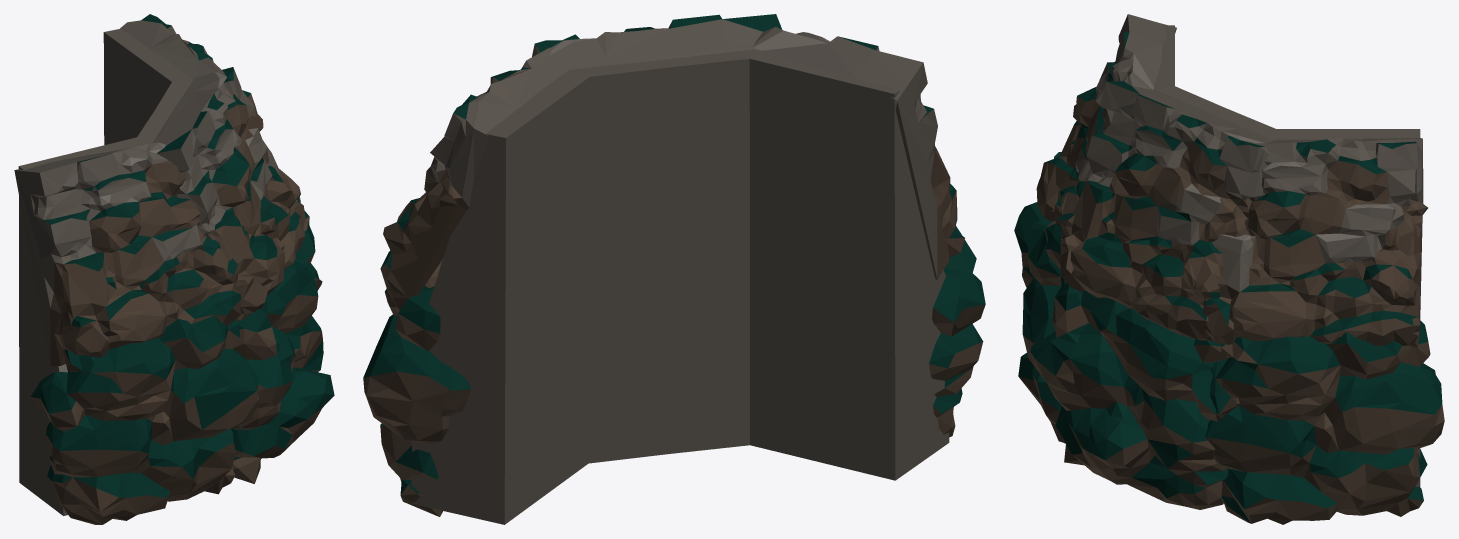
The model's file is MCastle_Foundations_00.FBX.
The picture shows the model from 3 angles, left to right: view 1: azimuth 30°, elevation 25°; view 2: azimuth 150°, elevation 25°; view 3: azimuth 270°, elevation 25°; orthographic projection. The views are drawn at different scales.
Visible parts, largest first — view 1: MCastle_Foundations_00_Rocks_LOD0; view 2: MCastle_Foundations_00_Rocks_LOD0; view 3: MCastle_Foundations_00_Rocks_LOD0.
Part boxes in pixels (x1,y1,x2,y2): MCastle_Foundations_00_Rocks_LOD0: [14, 14, 334, 524]; MCastle_Foundations_00_Rocks_LOD0: [363, 14, 985, 524]; MCastle_Foundations_00_Rocks_LOD0: [1014, 14, 1444, 524].
Size of what is drawn, in the model's own units: 6.95 by 6.28 by 6.85.
